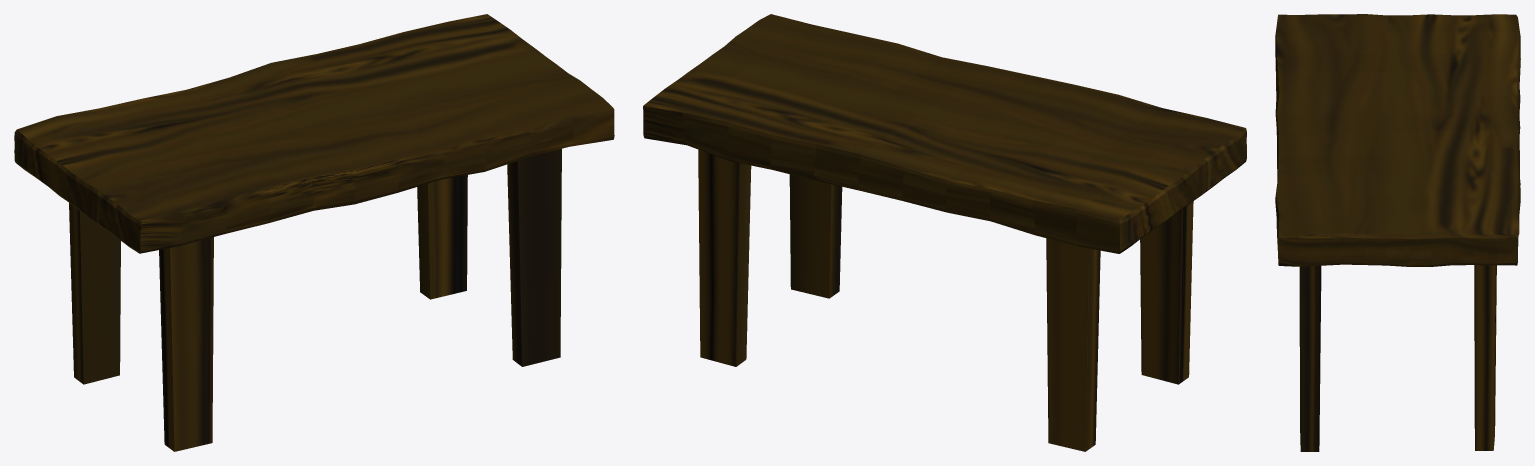
File: wood_table.gltf
The picture shows the model from 3 angles, left to right: view 1: azimuth 30°, elevation 25°; view 2: azimuth 150°, elevation 25°; view 3: azimuth 270°, elevation 25°; orthographic projection. The views are drawn at different scales.
Visible parts, largest first — view 1: table; view 2: table; view 3: table.
Boxes of the visible parts, x1,y1,x2,y2 form: table: (14, 14, 614, 451); table: (643, 14, 1246, 451); table: (1275, 14, 1520, 451).
Size of the model in its own units: 1.82 by 0.9205 by 0.8493.
1 material, 1 textured.
